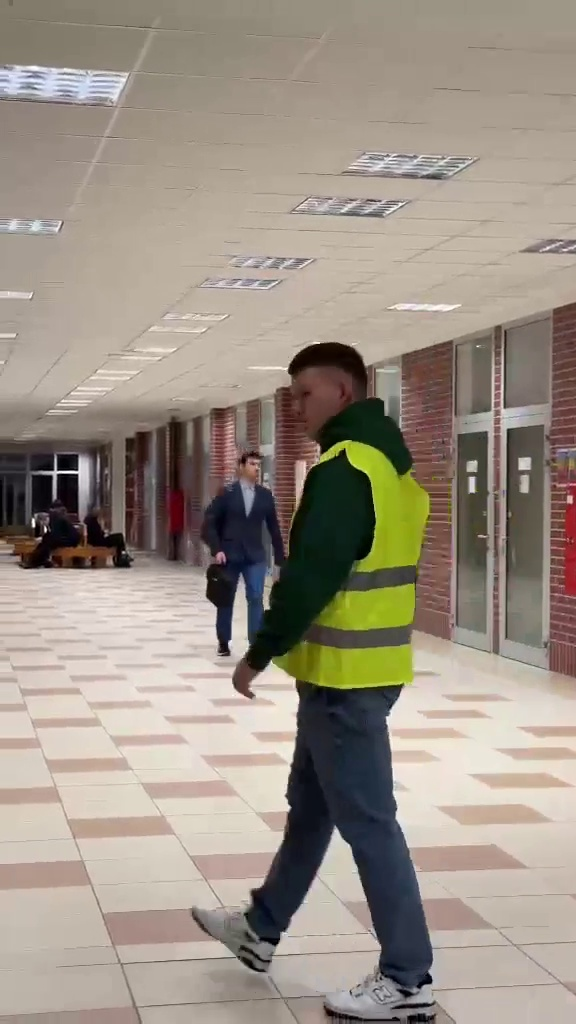no vest: (204, 446, 279, 651)
vest: (261, 342, 453, 1014)
